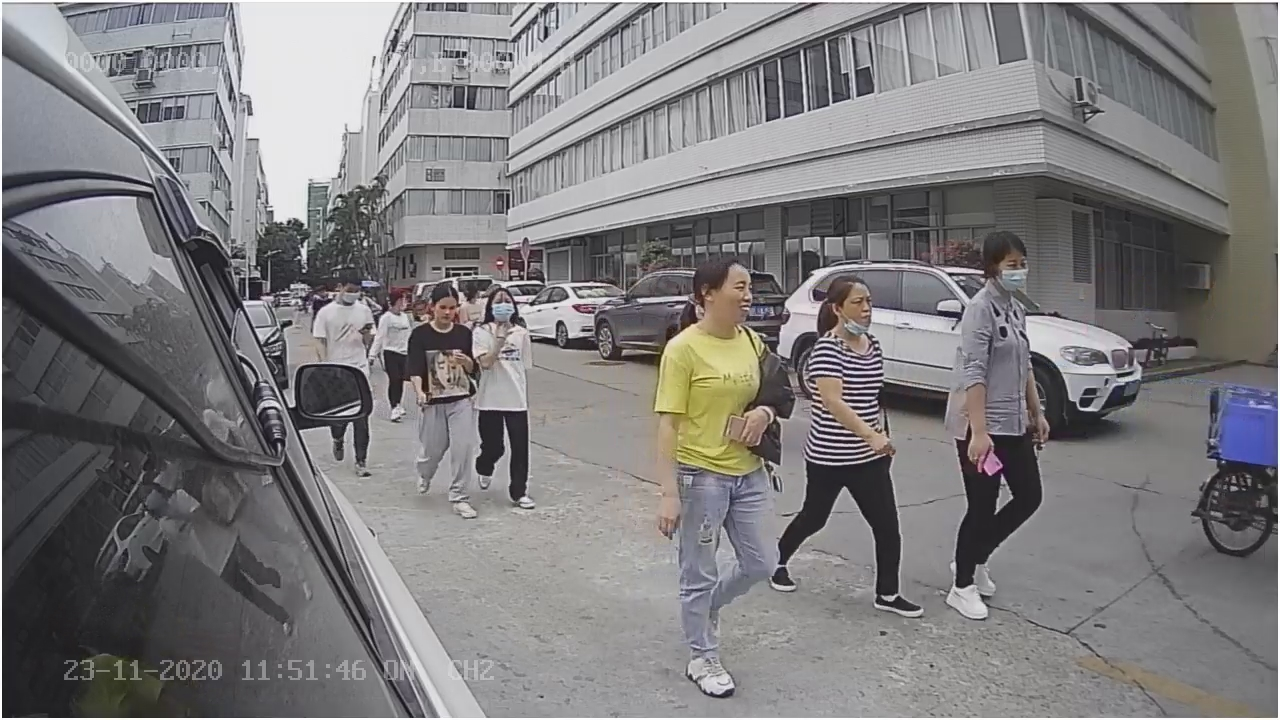person: (642, 257, 784, 695), (938, 221, 1033, 621), (402, 283, 483, 520)
